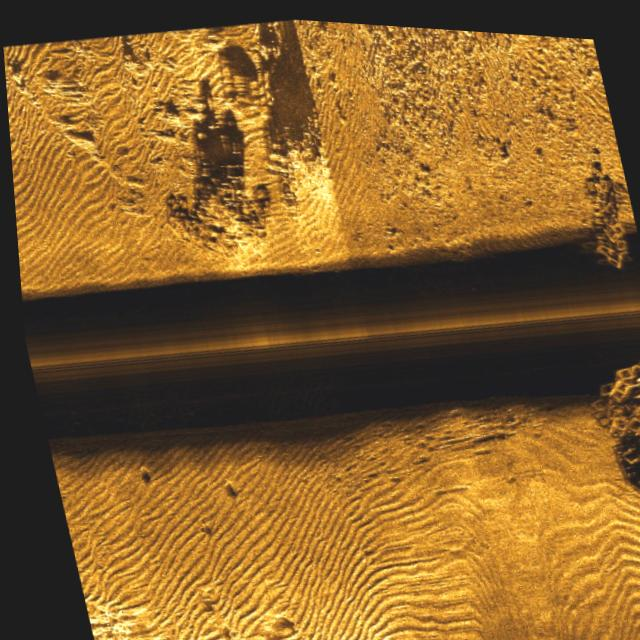artificial reef: (578, 334, 640, 490), (563, 162, 638, 273)
